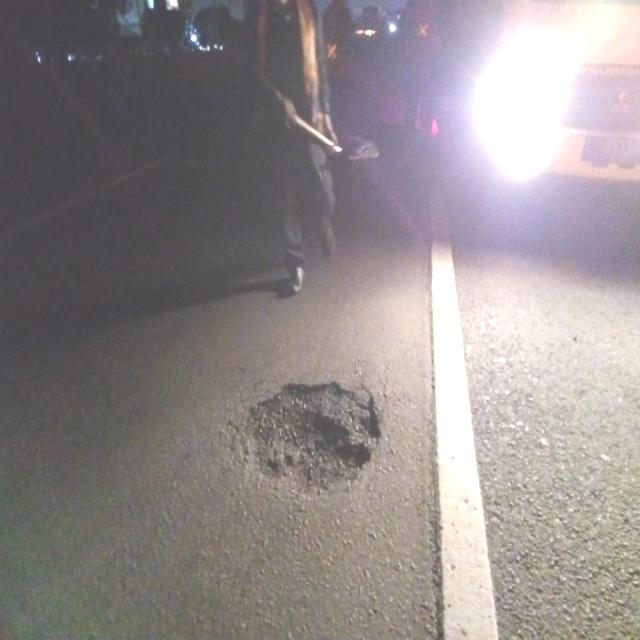Buraco: (239, 379, 385, 503)
